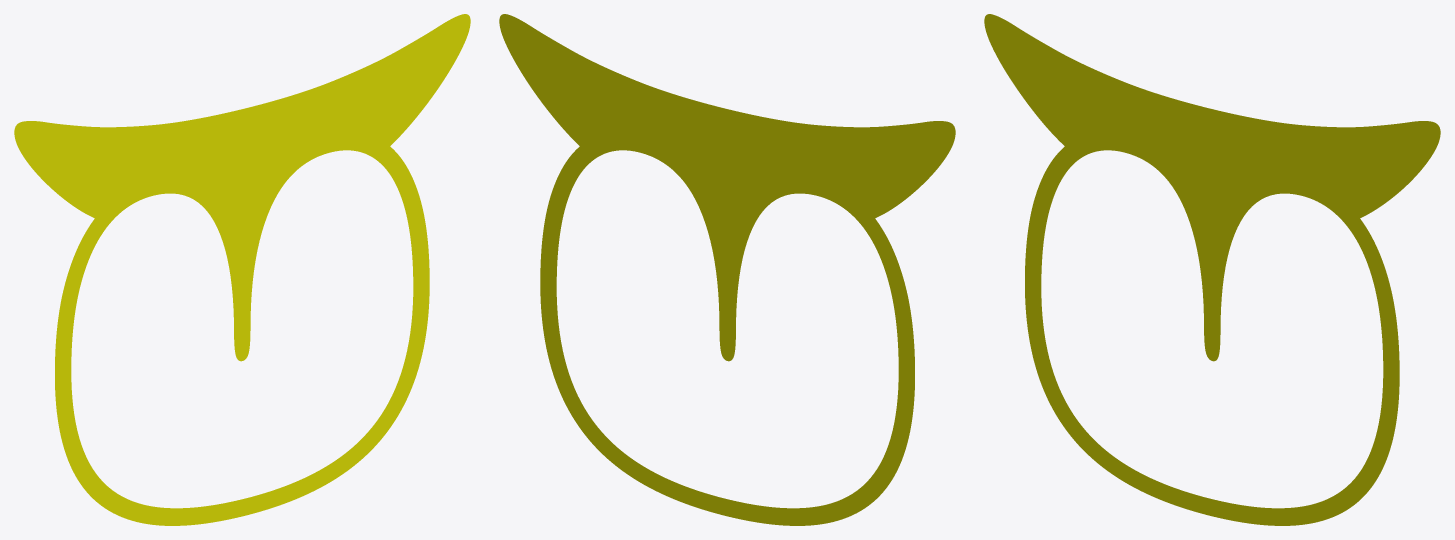
The model's file is tongue.glb.
3 renders of one model, left to right at view 1: azimuth 30°, elevation 25°; view 2: azimuth 150°, elevation 25°; view 3: azimuth 330°, elevation 25°, orthographic.
Visible parts, largest first — view 1: Text.709_709; view 2: Text.709_709; view 3: Text.709_709.
Part boxes in pixels (x1,y1,x2,y2): Text.709_709: [14, 14, 470, 525]; Text.709_709: [499, 14, 955, 525]; Text.709_709: [984, 14, 1440, 525].
Size of the model in its own units: 1.08 by 1.02 by 3.6e-06.
